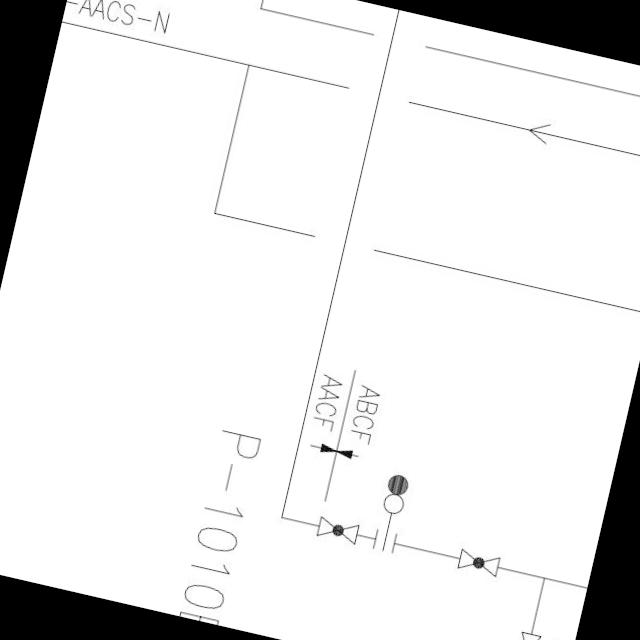BV2: (310, 514, 364, 552), (450, 544, 502, 582), (504, 623, 544, 640)
